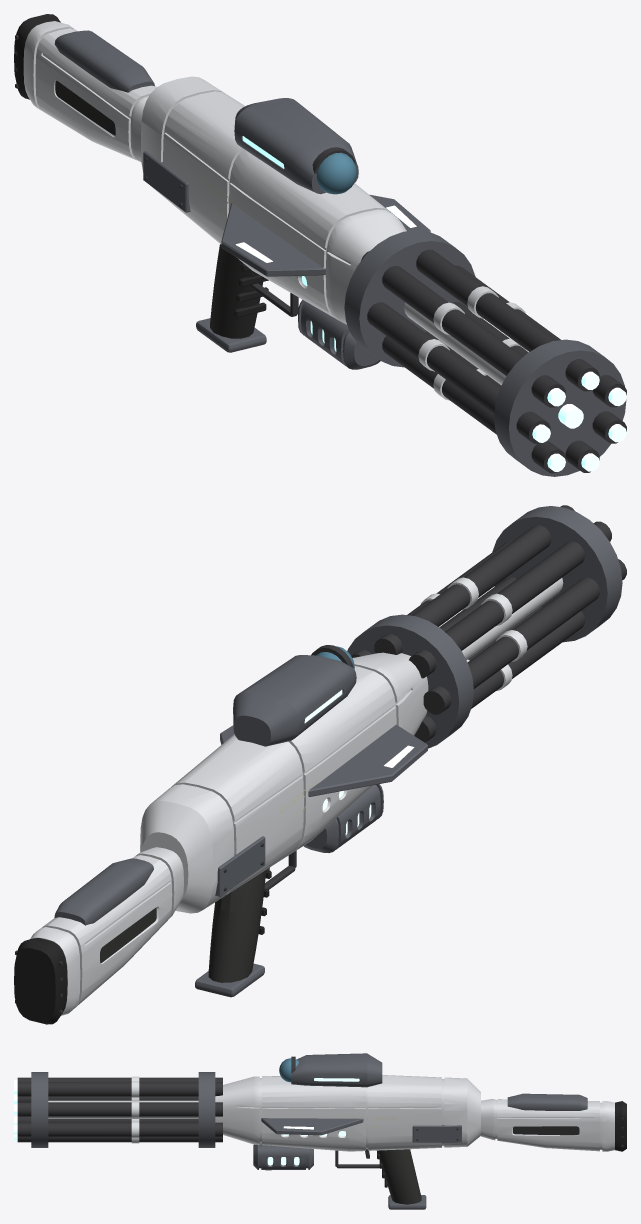
File: ghostchaser.glb
The picture shows the model from 3 angles, top to bottom: view 1: azimuth 30°, elevation 25°; view 2: azimuth 150°, elevation 25°; view 3: azimuth 270°, elevation 25°; orthographic projection. The views are drawn at different scales.
Parts seen in each view (by area): view 1: Body; view 2: Body; view 3: Body.
Part boxes in pixels (x1=…): Body: x1=14, y1=14, x2=626, y2=476; Body: x1=14, y1=505, x2=626, y2=1024; Body: x1=14, y1=1053, x2=626, y2=1209.
Size of the model in its own units: 0.1479 by 0.2136 by 0.807.
